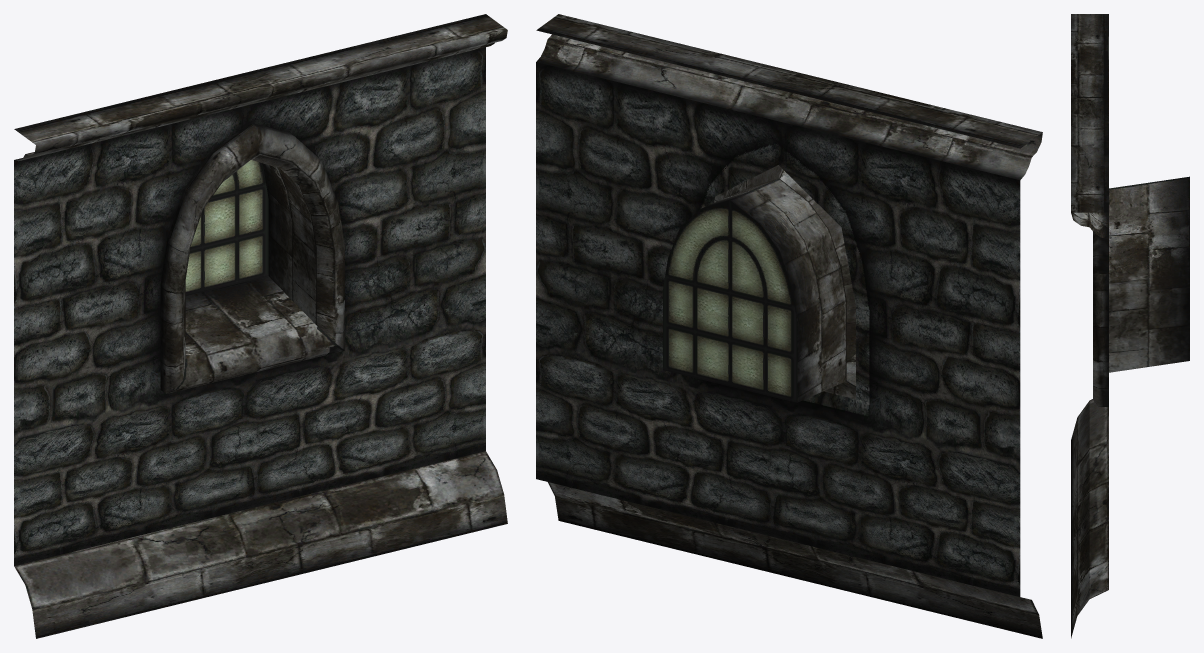
The model's file is window_extension_yellow.dae.
3 renders of one model, left to right at view 1: azimuth 30°, elevation 25°; view 2: azimuth 150°, elevation 25°; view 3: azimuth 270°, elevation 25°, orthographic. The views are drawn at different scales.
Visible parts, largest first — view 1: polySurface111, polySurface105, polySurface102; view 2: polySurface111, polySurface102, polySurface105; view 3: polySurface105, polySurface111.
Boxes of the visible parts, x1,y1,x2,y2 form: polySurface111: (14, 14, 507, 638); polySurface105: (160, 122, 344, 393); polySurface102: (185, 160, 268, 295); polySurface111: (536, 14, 1042, 638); polySurface102: (663, 200, 797, 402); polySurface105: (701, 165, 855, 402); polySurface105: (1093, 176, 1189, 406); polySurface111: (1071, 14, 1108, 638).
Size of the model in its own units: 4 by 4 by 1.01.
